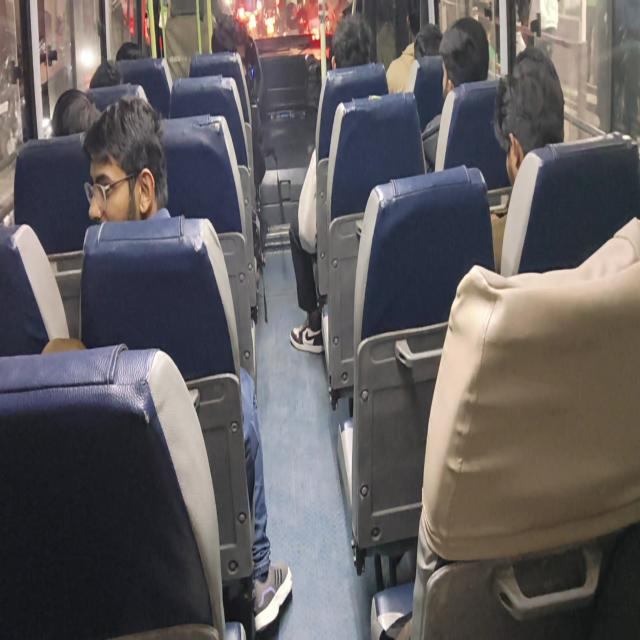person: (88, 96, 164, 226), (494, 47, 570, 170), (445, 15, 487, 97), (55, 87, 101, 146), (328, 21, 376, 73), (208, 6, 250, 64), (410, 15, 445, 66), (89, 62, 128, 103), (116, 32, 152, 72), (406, 1, 420, 36)
